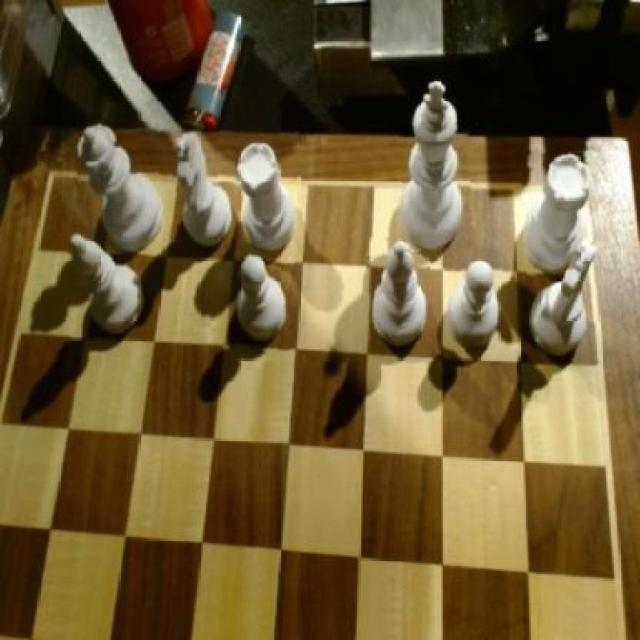black-rook: (68, 222, 150, 340), (368, 235, 432, 350)
white-bishop: (398, 77, 472, 252)
white-king: (528, 242, 602, 366), (174, 129, 235, 253)
white-knight: (444, 254, 504, 351), (237, 252, 295, 352)
white-pawn: (77, 115, 161, 253)
white-queen: (523, 150, 599, 282), (235, 131, 302, 259)
